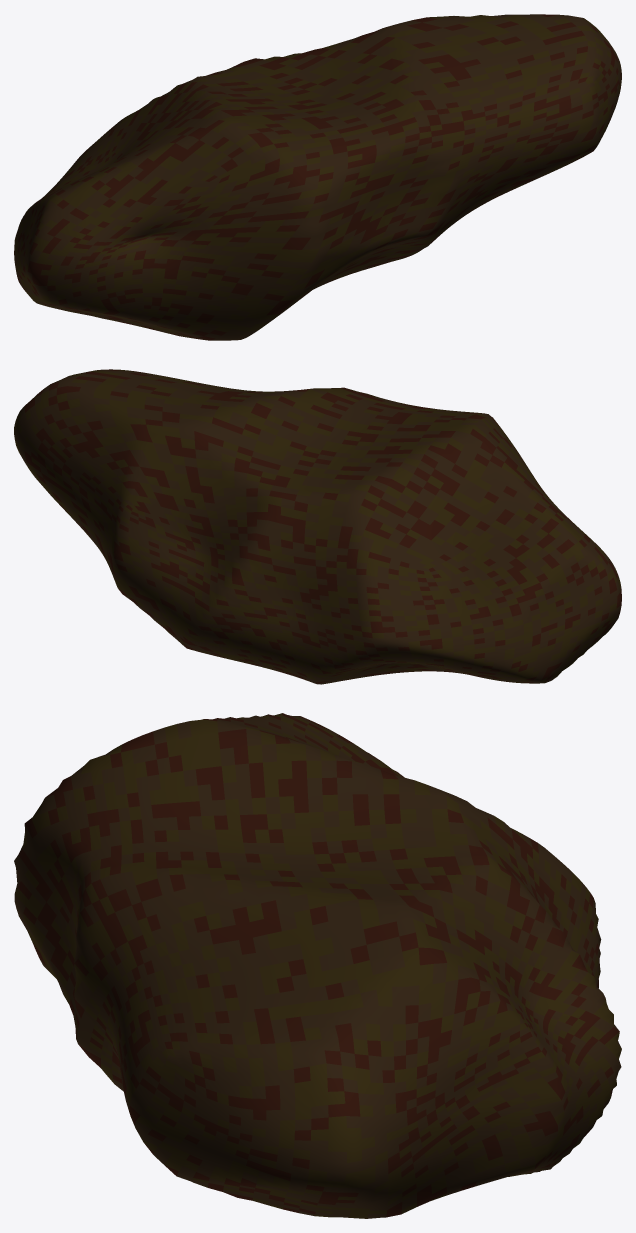
File: rockAsteroid 2 tone.fbx
3 renders of one model, top to bottom at view 1: azimuth 30°, elevation 25°; view 2: azimuth 150°, elevation 25°; view 3: azimuth 270°, elevation 25°, orthographic. The views are drawn at different scales.
Visible parts, largest first — view 1: Cube.002; view 2: Cube.002; view 3: Cube.002.
Part boxes in pixels (bbox=[...]): Cube.002: bbox=[14, 14, 621, 340]; Cube.002: bbox=[14, 369, 621, 684]; Cube.002: bbox=[14, 713, 621, 1218].
Bounding box in the file's own units: 412 × 153 × 227.
